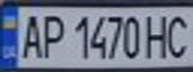0: (121, 11, 145, 60)
1: (69, 11, 90, 60)
4: (87, 11, 109, 60)
7: (106, 11, 124, 61)
A: (15, 10, 45, 60)
C: (163, 11, 193, 60)
H: (142, 11, 172, 60)
P: (36, 11, 66, 60)
